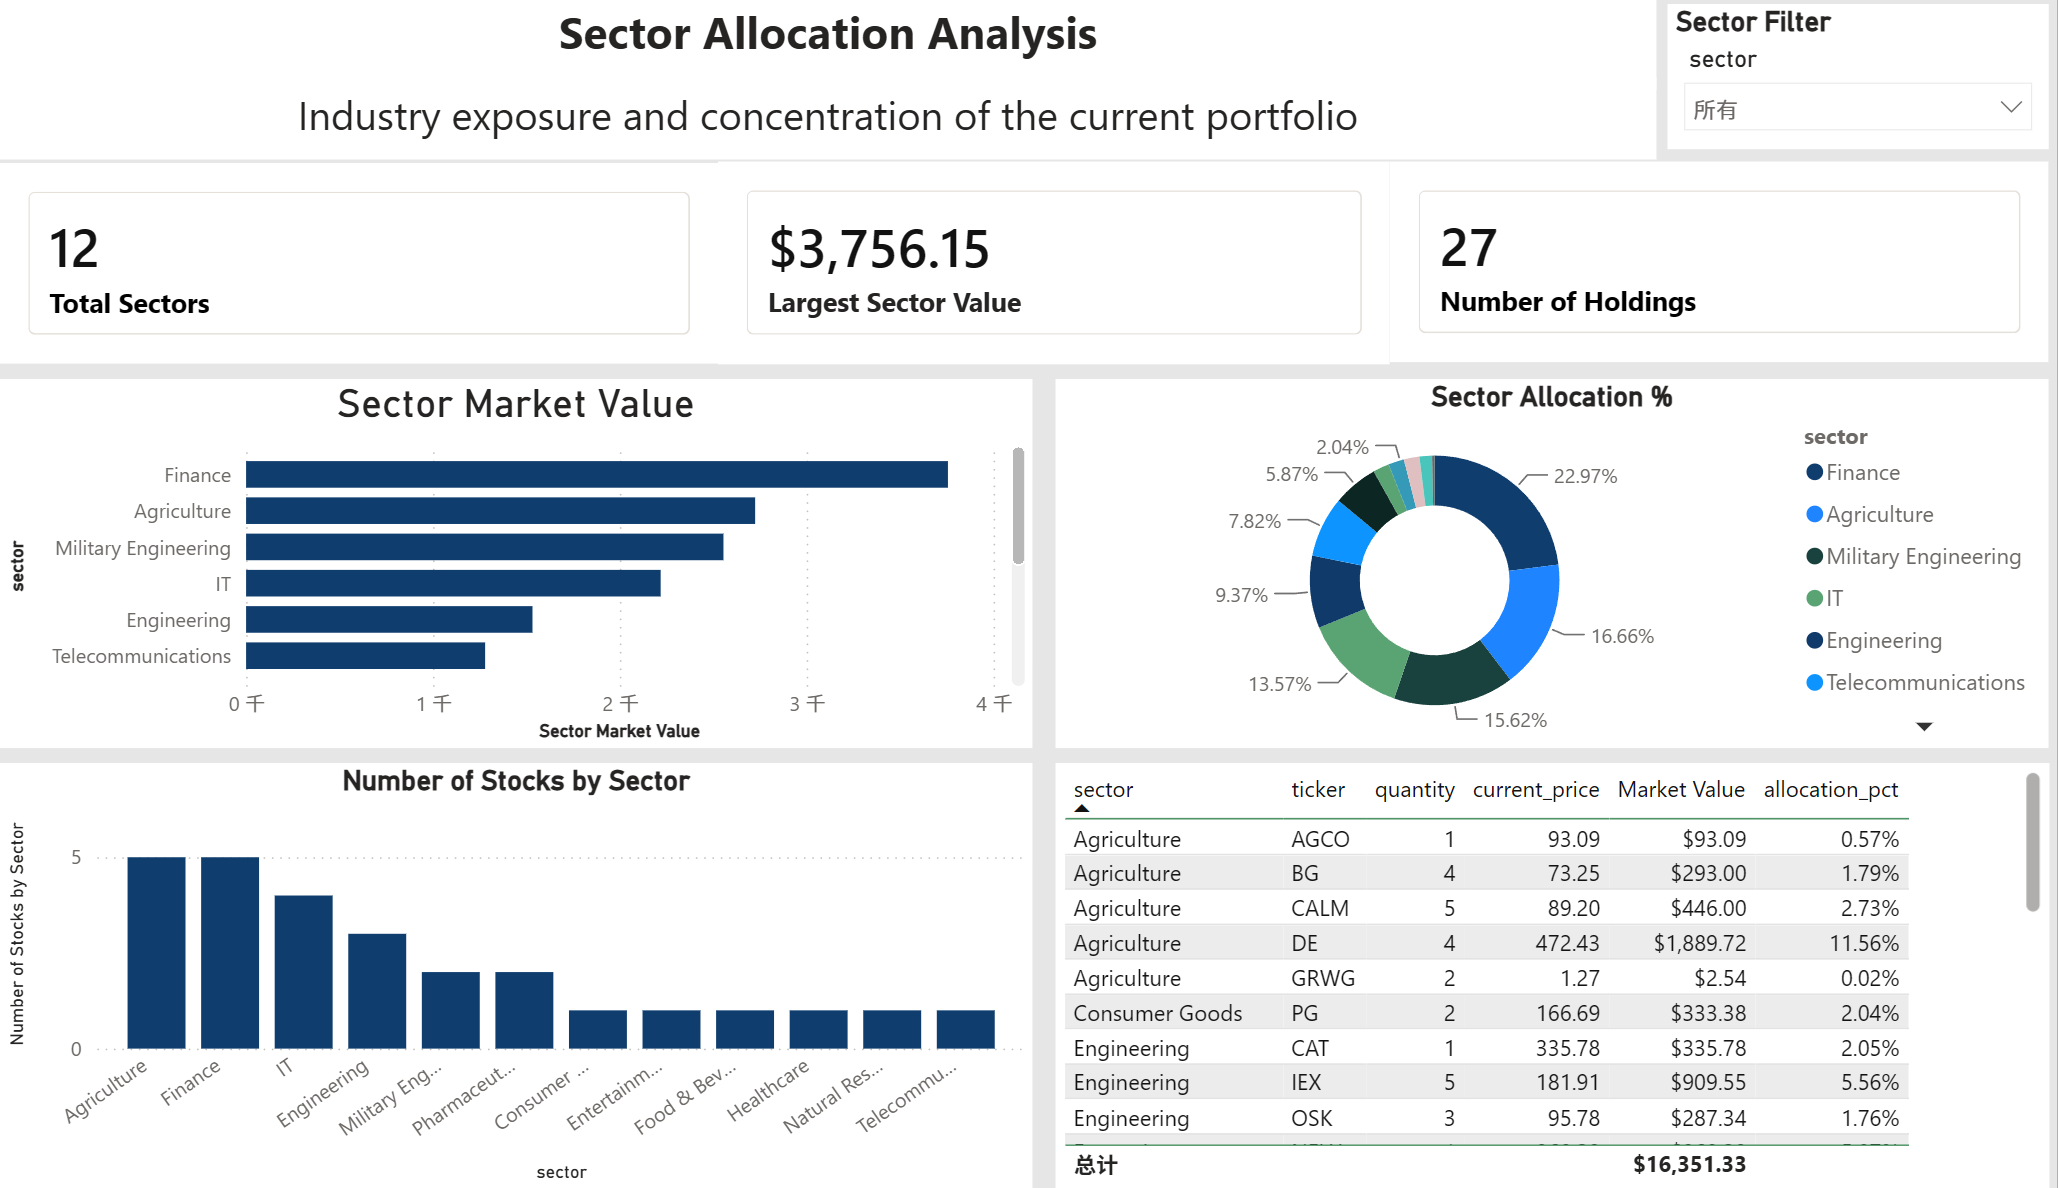

The dashboard page shown, as its layout file describes it:
{"tool":"powerbi","page":{"name":"Sector Allocation","canvas":[1280,720],"ordinal":1},"visuals":[{"type":"textbox","box":[42.2,0,996.7,58.3],"z":0},{"type":"textbox","box":[42.2,51.3,996.7,49.3],"z":1000},{"type":"cardVisual","fields":{"Data":["portfolio_summary.Total Sectors"]},"box":[42.2,102.6,432.5,120.7],"z":2000},{"type":"cardVisual","fields":{"Data":["portfolio_summary.Number of Holdings"]},"box":[879,101.6,396.3,120.7],"z":3000},{"type":"cardVisual","fields":{"Data":["portfolio_summary.Largest Sector Value"]},"box":[474.7,101.6,404.3,121.7],"z":4000},{"type":"barChart","title":"Sector Market Value","fields":{"Category":["portfolio_summary.sector"],"Y":["portfolio_summary.Sector Market Value"]},"box":[42.2,232.3,621.6,222.3],"z":5000},{"type":"donutChart","title":"Sector Allocation %","fields":{"Category":["portfolio_summary.sector"],"Y":["portfolio_summary.Sector Market Value"]},"box":[677.9,232.3,597.4,222.3],"z":6000},{"type":"clusteredColumnChart","title":"Number of Stocks by Sector","fields":{"Category":["portfolio_summary.sector"],"Y":["portfolio_summary.Number of Stocks by Sector"]},"box":[42.2,463.7,621.6,256.5],"z":7000},{"type":"slicer","title":"Sector Filter","fields":{"Values":["portfolio_summary.sector"]},"box":[1046,7,229.3,87.5],"z":8000},{"type":"tableEx","fields":{"Values":["portfolio_summary.sector","portfolio_summary.ticker","portfolio_summary.quantity","portfolio_summary.current_price","portfolio_summary.Market Value","portfolio_summary.allocation_pct"]},"box":[677.9,463.7,597.4,256.5],"z":9000}]}

Visuals, with their boxes in screenshot pixels (x1, y1, x2, y2), scaled from the page's 1280x720 canvas onto the 2059x1188 screenshot:
textbox: bbox=(68, 0, 1671, 96)
textbox: bbox=(68, 85, 1671, 166)
cardVisual - portfolio_summary.Total Sectors: bbox=(68, 169, 764, 368)
cardVisual - portfolio_summary.Number of Holdings: bbox=(1414, 168, 2051, 367)
cardVisual - portfolio_summary.Largest Sector Value: bbox=(764, 168, 1414, 368)
"Sector Market Value" barChart: bbox=(68, 383, 1068, 750)
"Sector Allocation %" donutChart: bbox=(1090, 383, 2051, 750)
"Number of Stocks by Sector" clusteredColumnChart: bbox=(68, 765, 1068, 1187)
"Sector Filter" slicer: bbox=(1683, 12, 2051, 156)
tableEx - portfolio_summary.sector x portfolio_summary.ticker: bbox=(1090, 765, 2051, 1187)
